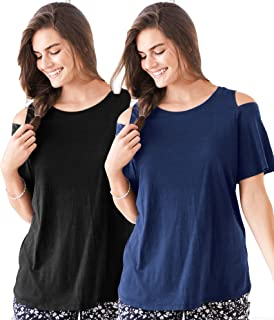tshirt: (115, 87, 274, 312)
